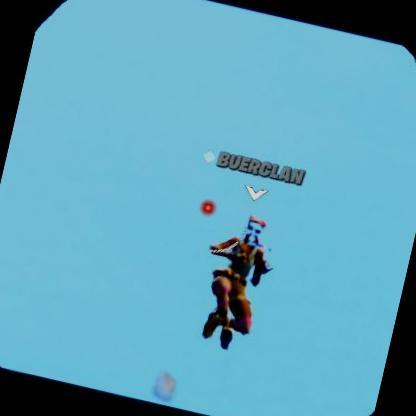person: (208, 218, 272, 338)
